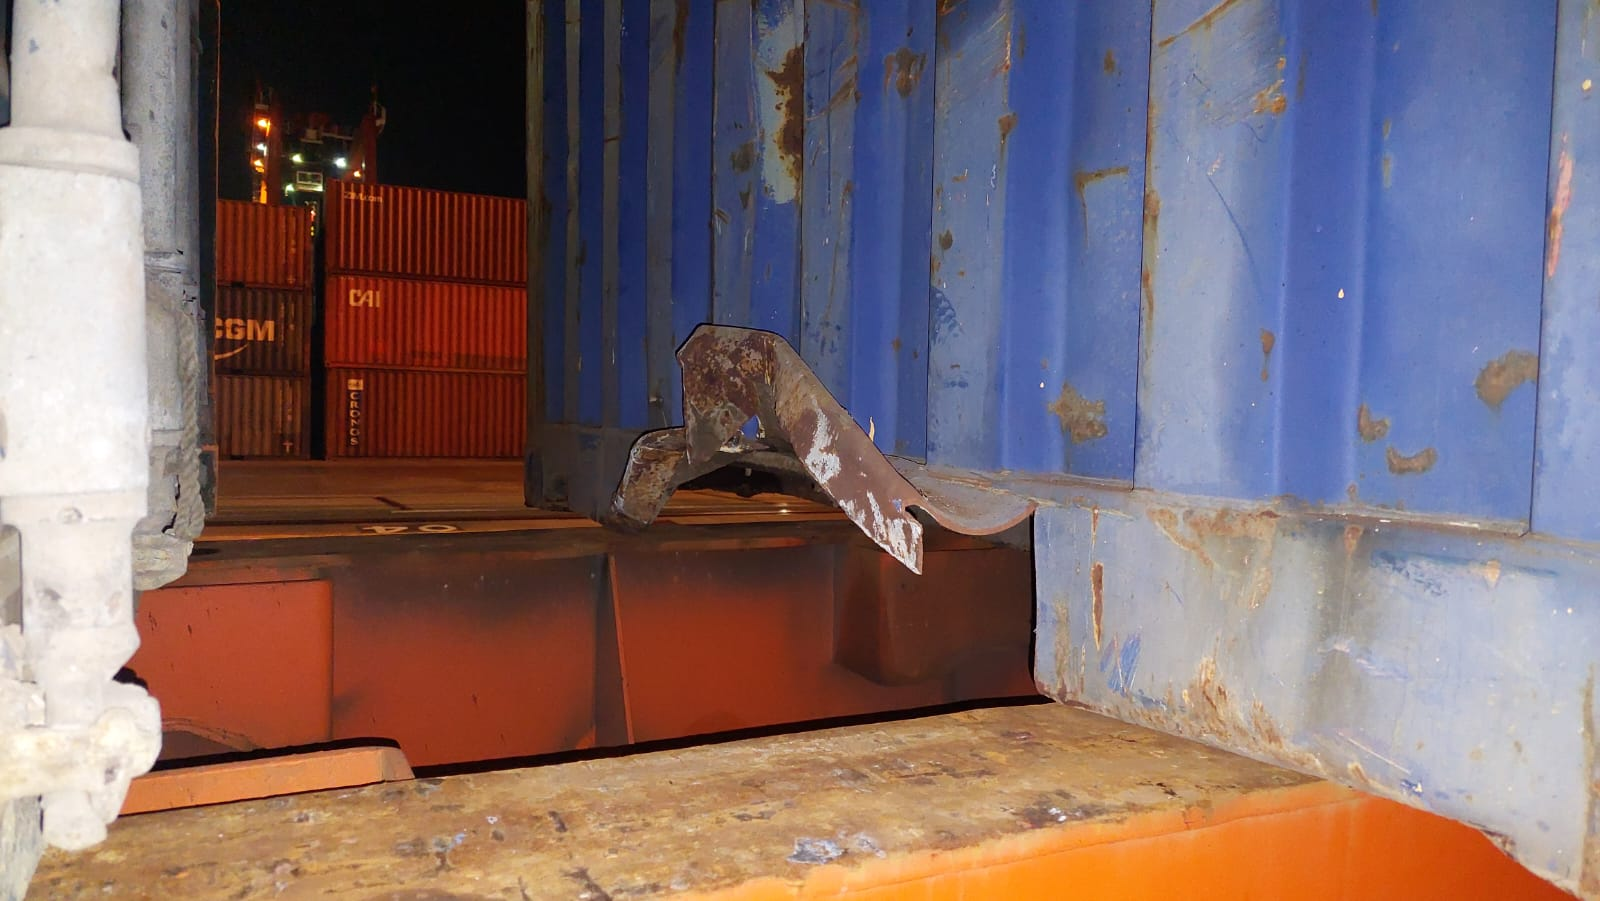severe: (577, 272, 1099, 698)
